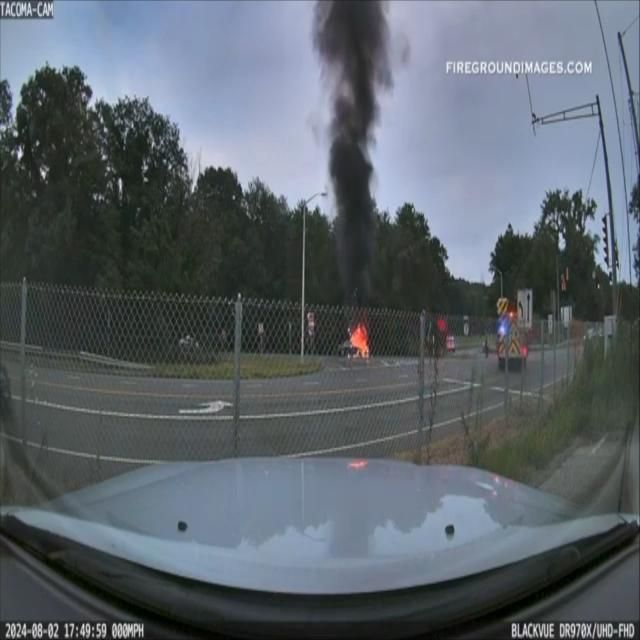fire: (345, 323, 370, 363)
